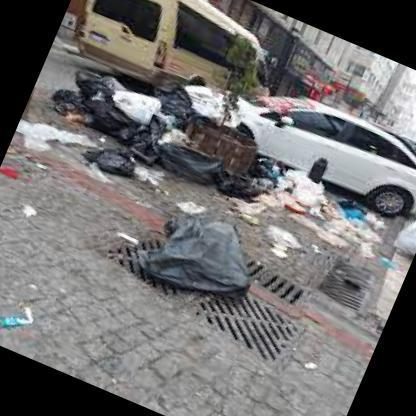Garbage: (236, 160, 392, 286), (140, 199, 270, 314), (58, 68, 188, 164), (129, 79, 208, 173), (176, 151, 281, 219), (67, 130, 161, 192)
